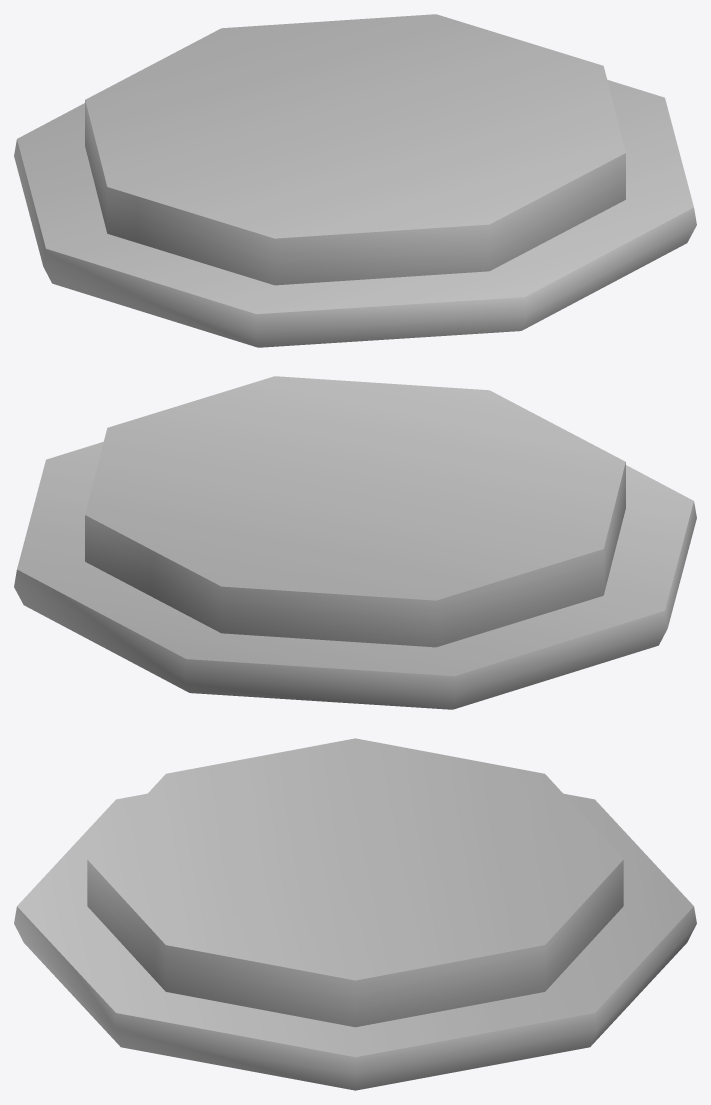
Rendered from stone_guard_061.glb.
3 views of the same model, one above another, from view 1: azimuth 30°, elevation 25°; view 2: azimuth 150°, elevation 25°; view 3: azimuth 270°, elevation 25° (orthographic).
Parts seen in each view (by area): view 1: stone_guard.061; view 2: stone_guard.061; view 3: stone_guard.061.
Part boxes in pixels (<box>): stone_guard.061: <box>14,14,696,347</box>; stone_guard.061: <box>14,376,696,709</box>; stone_guard.061: <box>14,738,696,1090</box>.
Size of the model in its own units: 5.19 by 0.6605 by 4.92.
1 material, 1 textured.
